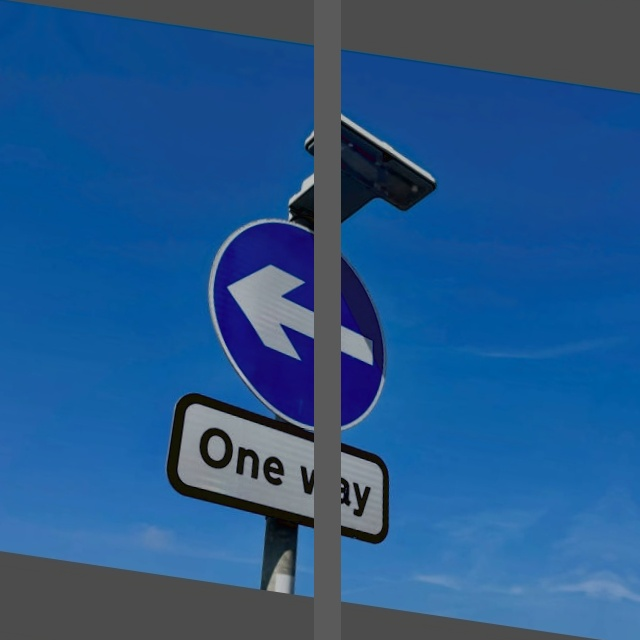Compulsory_Turn_Left: (192, 209, 413, 440)
